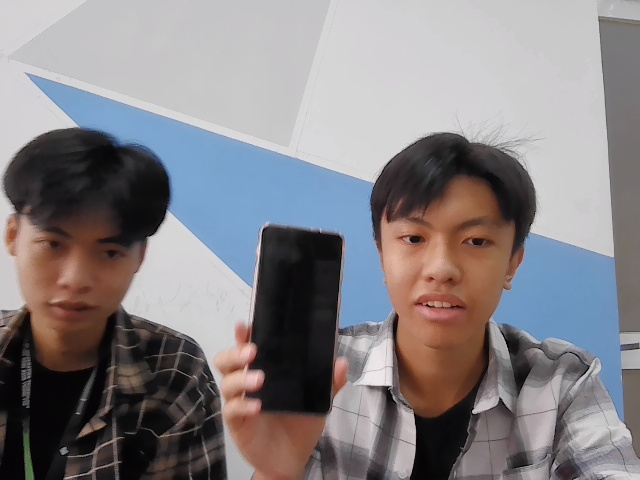human: (368, 125, 539, 349), (3, 123, 173, 339)
phone: (246, 212, 345, 426)
